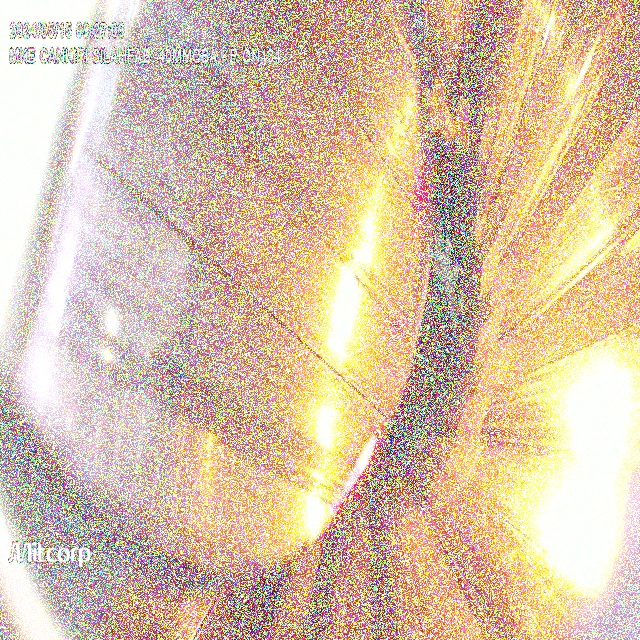hata_2.3: (258, 295, 399, 448), (355, 93, 429, 253)
